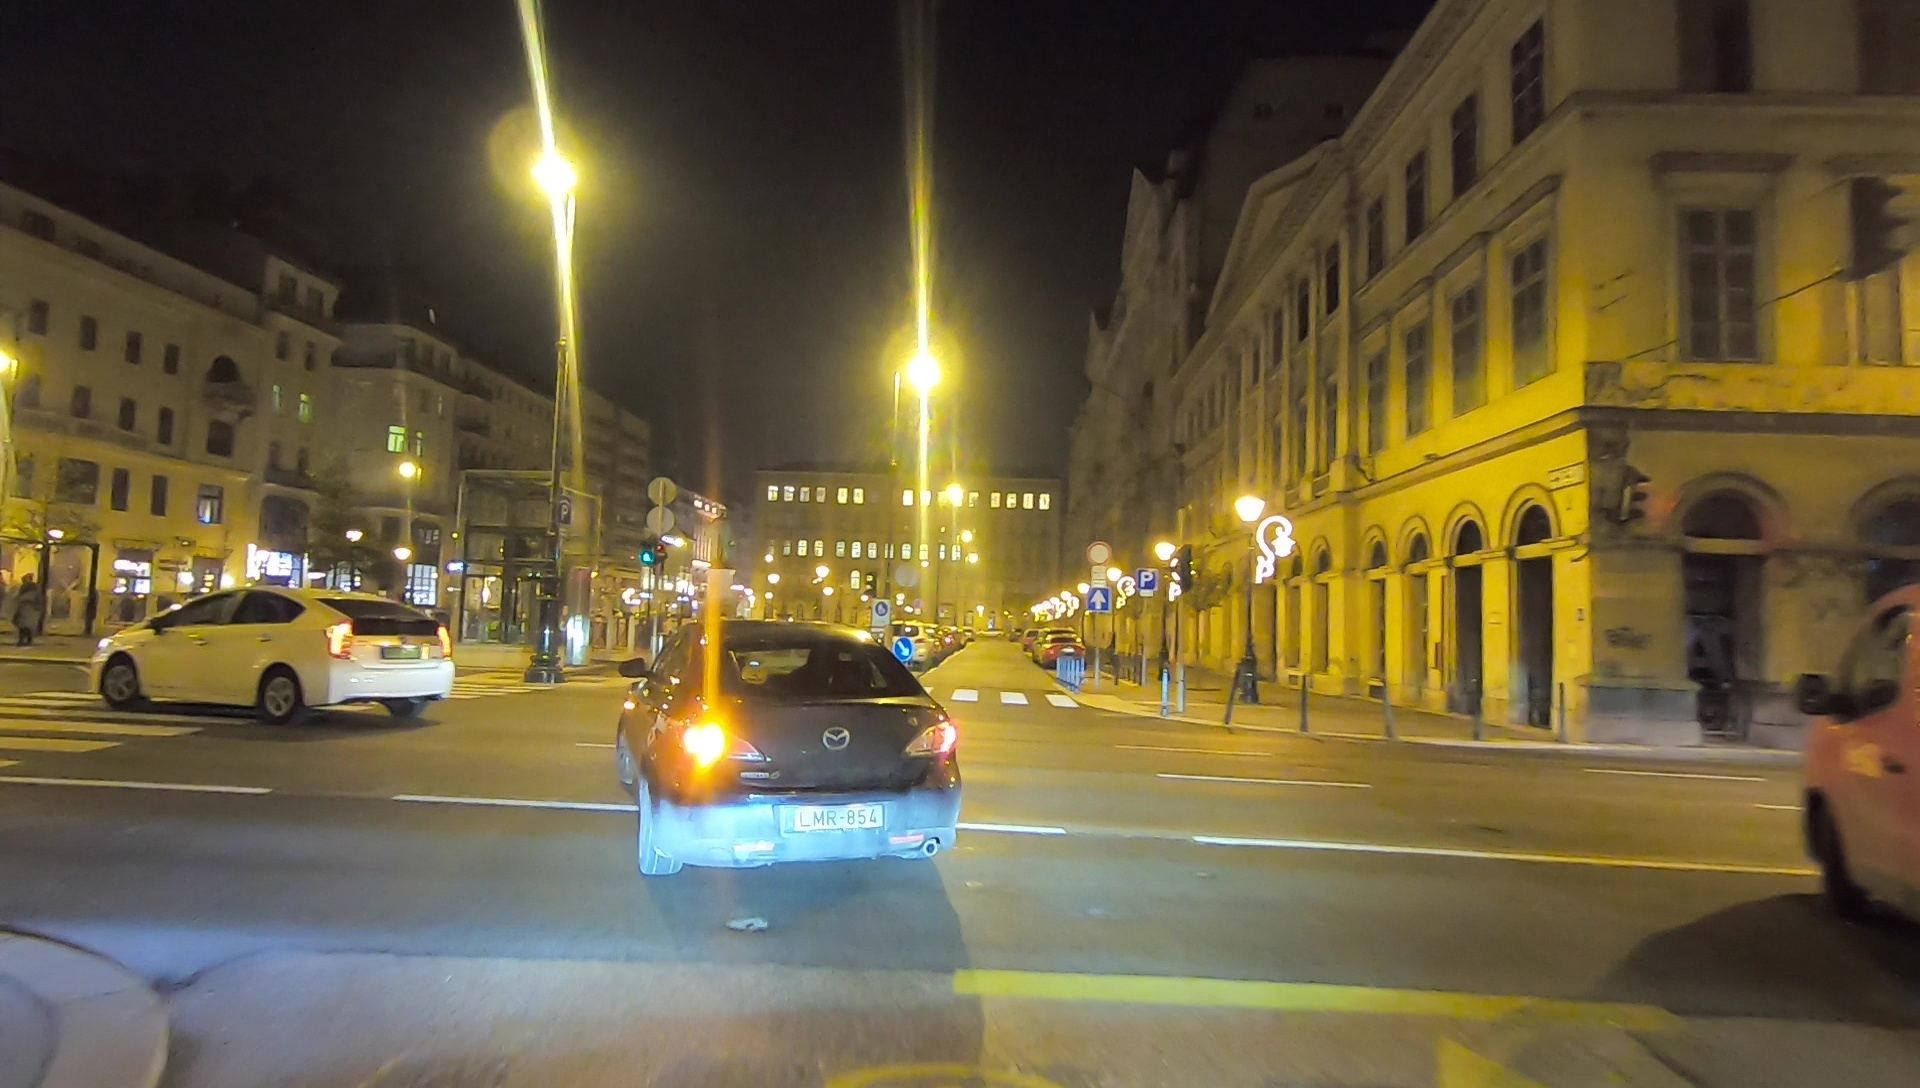person: (10, 567, 43, 643)
